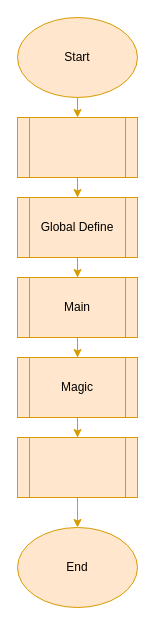
This 155x625 diagram has some shape labels left out. Each missing label, with the centre of its shape:
"Import" belongs at pixel 77 147.
"Output" belongs at pixel 77 467.
